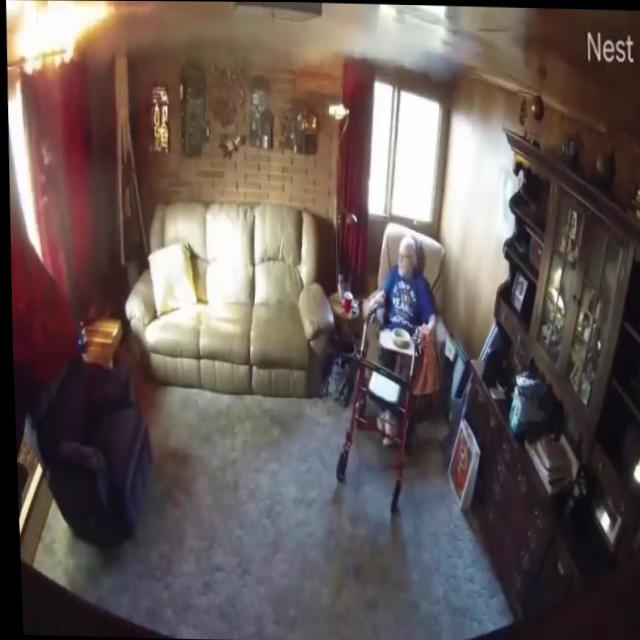fire: (12, 3, 119, 76)
